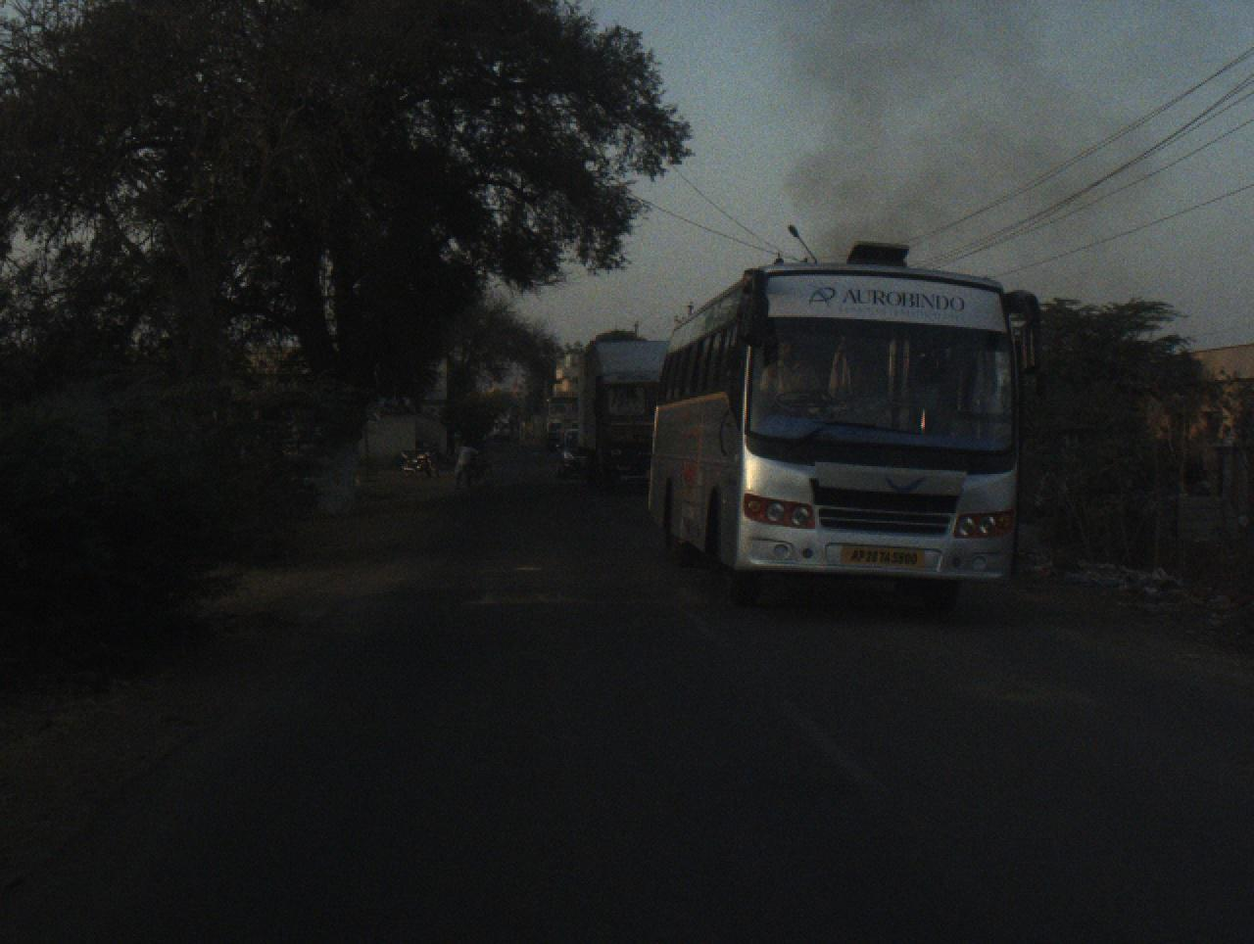streetlight: (786, 222, 818, 263)
